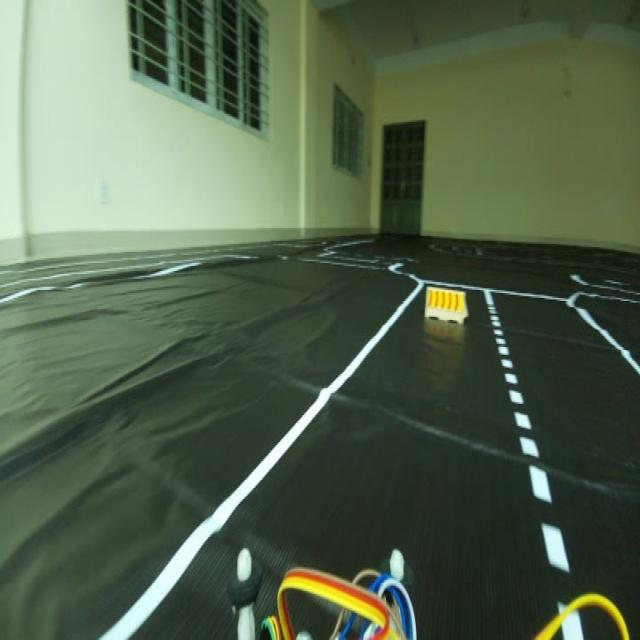roadblock: (422, 284, 475, 337)
